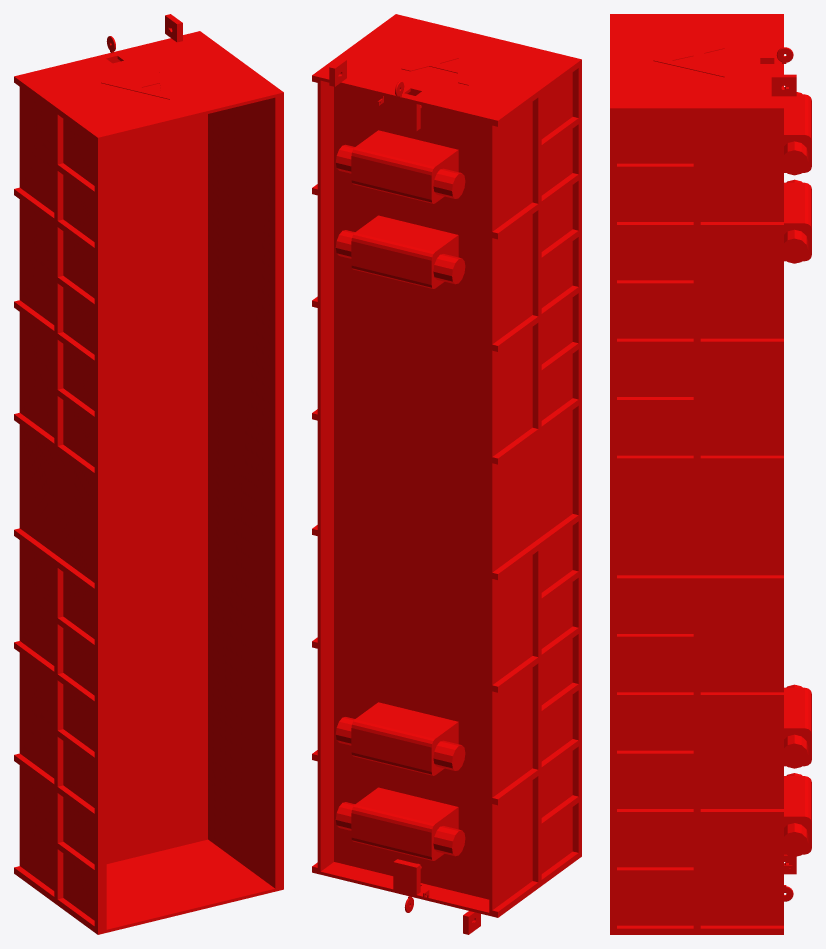
Rendered from power_cart_base_link_visuals_base_link_mesh.obj.
3 renders of one model, left to right at view 1: azimuth 30°, elevation 25°; view 2: azimuth 150°, elevation 25°; view 3: azimuth 270°, elevation 25°, orthographic. The views are drawn at different scales.
Bounding box in the file's own units: 3.2 × 13.7 × 2.9.
